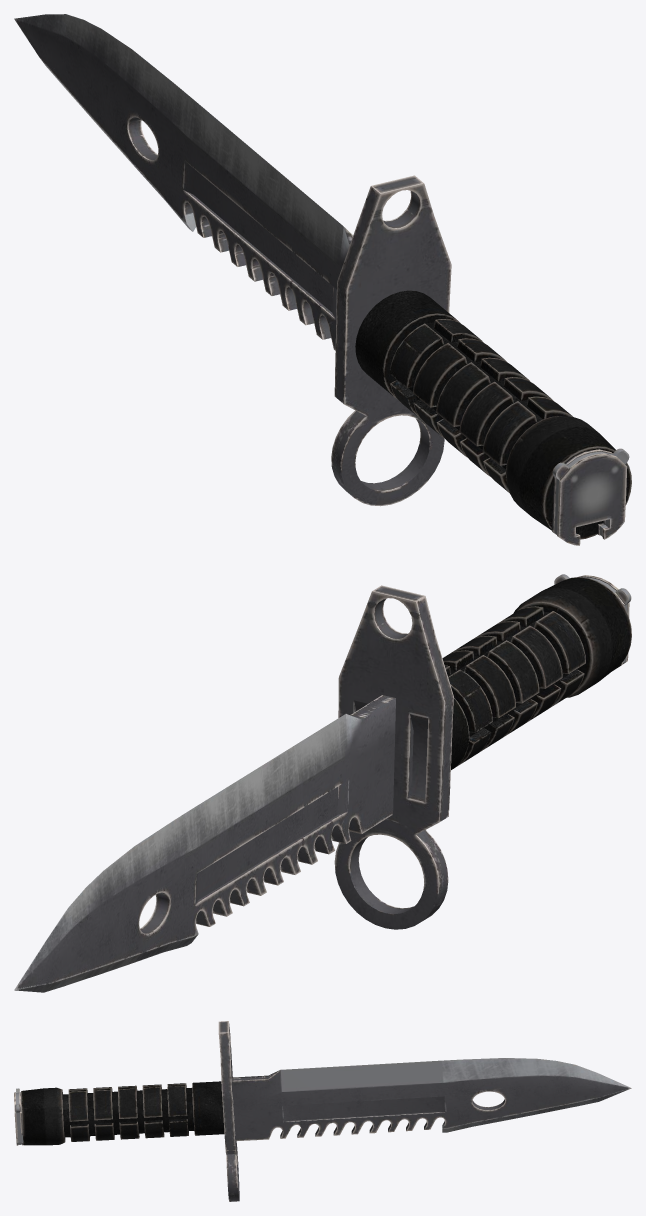
Rendered from knife_m9.glb.
3 renders of one model, top to bottom at view 1: azimuth 30°, elevation 25°; view 2: azimuth 150°, elevation 25°; view 3: azimuth 270°, elevation 25°, orthographic. The views are drawn at different scales.
Visible parts, largest first — view 1: Knife-Low_Material.010_0; view 2: Knife-Low_Material.010_0; view 3: Knife-Low_Material.010_0.
Boxes of the visible parts, <box> form: Knife-Low_Material.010_0: <box>14,14,631,545</box>; Knife-Low_Material.010_0: <box>14,574,631,992</box>; Knife-Low_Material.010_0: <box>14,1021,631,1201</box>.
Bounding box in the file's own units: 0.0335 × 0.0985 × 0.32.
Materials: 3 (3 with a texture image).
